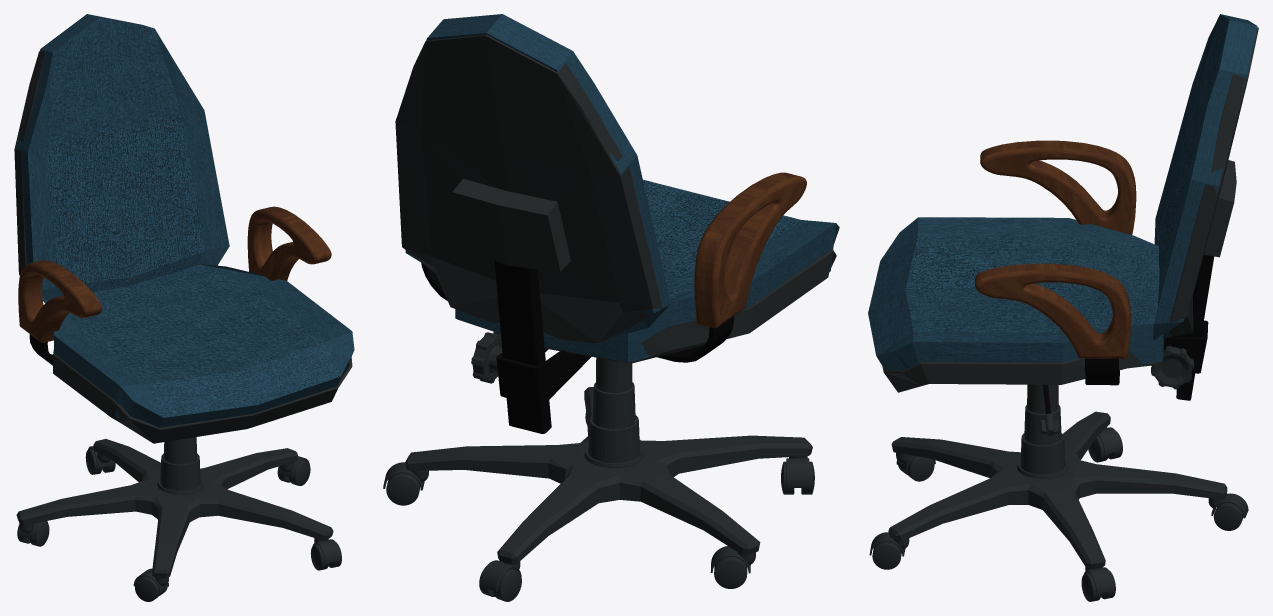
File: Study Chair.glb
3 views of the same model, side by side, from view 1: azimuth 30°, elevation 25°; view 2: azimuth 150°, elevation 25°; view 3: azimuth 270°, elevation 25° (orthographic). The views are drawn at different scales.
Parts seen in each view (by area): view 1: Cube, Cube_2, Cylinder, Низ_сидения_3, Выдавливание, Cone, Закругление_1, Низ_сидения, Закругление_2, Шапка_1, Шапка_2, Oil_Tank (+1 smaller); view 2: Низ_сидения, Cylinder, Cube_2, Cube, Стойка_спинки, Cone, Низ_сидения_3, Выдавливание, Extrude_NURBS_2, Закругление_1, Шапка_1, Симметрия_1 (+7 smaller); view 3: Cube_2, Cylinder, Cube, Низ_сидения, Низ_сидения_3, Закругление_1, Выдавливание, Закругление_2, Cone, Шапка_1, Шапка_2, Стойка_спинки (+7 smaller).
Boxes of the visible parts, <box> form: Cube: <box>15,14,229,303</box>; Cube_2: <box>54,264,354,427</box>; Cylinder: <box>16,439,333,578</box>; Низ_сидения_3: <box>53,349,352,443</box>; Выдавливание: <box>28,206,329,342</box>; Cone: <box>157,437,203,494</box>; Закругление_1: <box>18,206,331,342</box>; Низ_сидения: <box>14,51,45,275</box>; Закругление_2: <box>40,209,317,330</box>; Шапка_1: <box>18,268,82,338</box>; Шапка_2: <box>248,214,311,279</box>; Oil_Tank: <box>135,576,167,601</box>; Низ_сидения: <box>395,34,662,343</box>; Cylinder: <box>405,387,812,564</box>; Cube_2: <box>455,179,839,362</box>; Cube: <box>405,14,670,339</box>; Стойка_спинки: <box>494,260,551,433</box>; Cone: <box>584,357,643,467</box>; Низ_сидения_3: <box>457,249,836,363</box>; Выдавливание: <box>697,172,799,328</box>; Extrude_NURBS_2: <box>496,348,591,405</box>; Закругление_1: <box>711,176,806,328</box>; Шапка_1: <box>719,183,806,322</box>; Симметрия_1: <box>421,263,733,362</box>; Cube_2: <box>868,217,1164,370</box>; Cylinder: <box>888,411,1227,569</box>; Cube: <box>1153,14,1257,340</box>; Низ_сидения: <box>1168,27,1258,336</box>; Низ_сидения_3: <box>882,350,1159,392</box>; Закругление_1: <box>975,140,1130,358</box>; Выдавливание: <box>975,141,1136,340</box>; Закругление_2: <box>976,147,1135,333</box>; Cone: <box>1017,384,1068,478</box>; Шапка_1: <box>979,276,1125,355</box>; Шапка_2: <box>984,153,1131,232</box>; Стойка_спинки: <box>1176,255,1214,400</box>.
Bounding box in the file's own units: 652 × 972 × 681.
5 materials, 3 textured.
